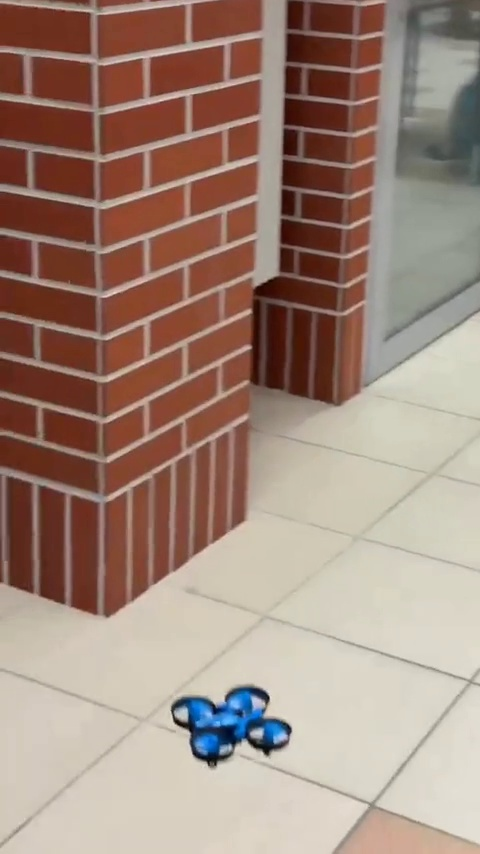drone: (174, 682, 292, 752)
